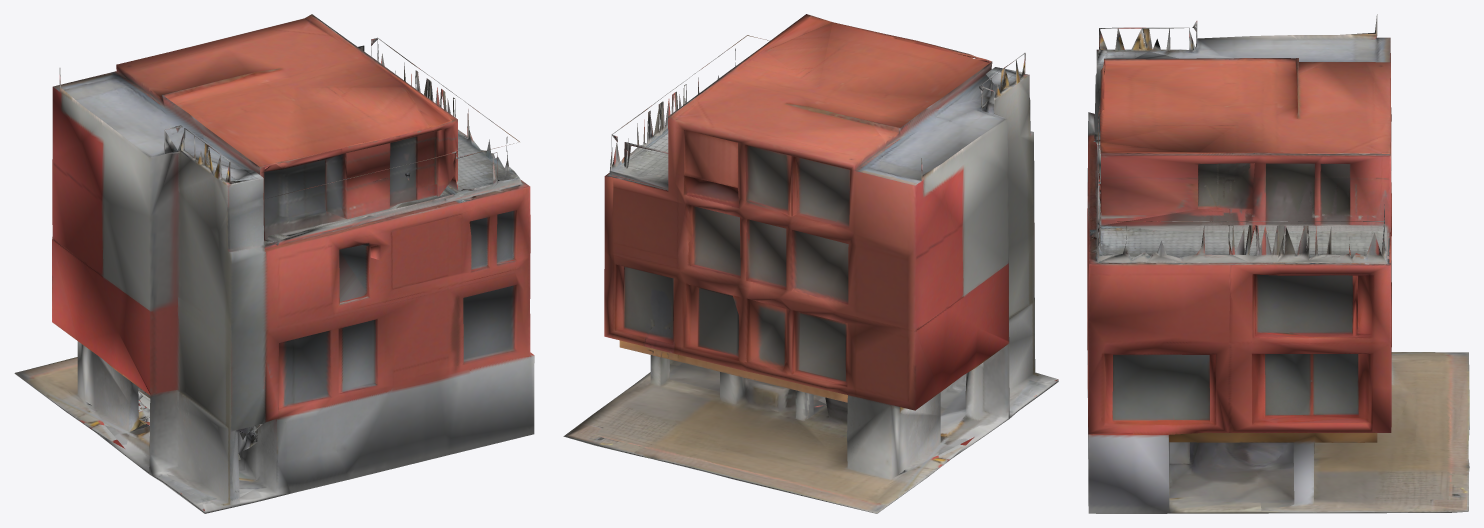
The model's file is bldg_1.glb.
3 views of the same model, side by side, from view 1: azimuth 30°, elevation 25°; view 2: azimuth 150°, elevation 25°; view 3: azimuth 270°, elevation 25° (orthographic). The views are drawn at different scales.
Parts seen in each view (by area): view 1: Mesh_0.002; view 2: Mesh_0.002; view 3: Mesh_0.002.
Boxes of the visible parts, left/top/right/bottom form: Mesh_0.002: left=14, top=14, right=534, bottom=513; Mesh_0.002: left=563, top=14, right=1058, bottom=513; Mesh_0.002: left=1087, top=14, right=1469, bottom=513.
Bounding box in the file's own units: 13.19 × 13.04 × 13.23.
Materials: 1 (1 with a texture image).
